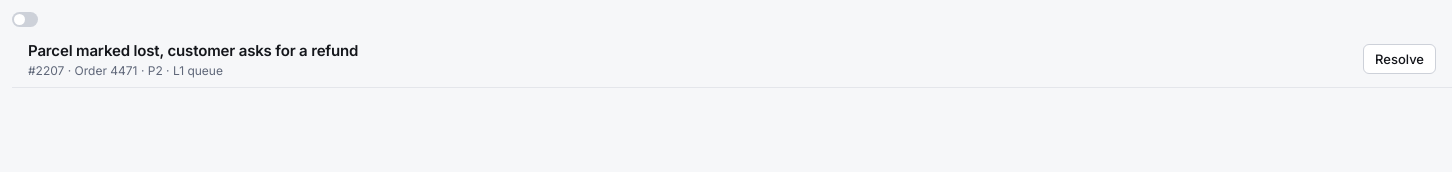
Scenario: resolving again › says it did not go through when the server cannot be reached
This screenshot has width=1452, height=172.
Click the button "Resolve". click: {"x": 1400, "y": 59}
box: 1363,44 -> 1436,74
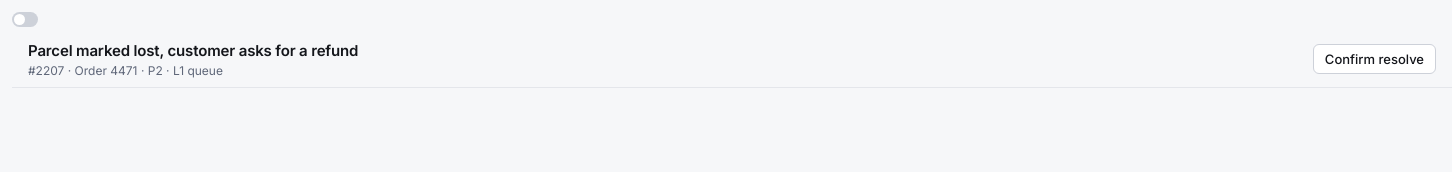
Click the button "Confirm resolve". click: {"x": 1374, "y": 59}
box: 1313,44 -> 1436,74
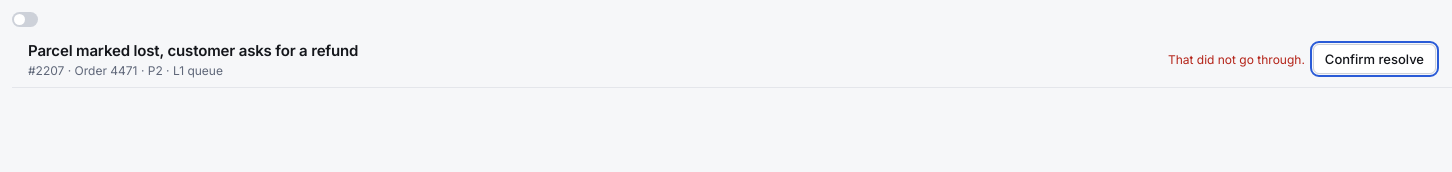
Result: the message reads "That did not go through." at 1168,52 -> 1305,67
